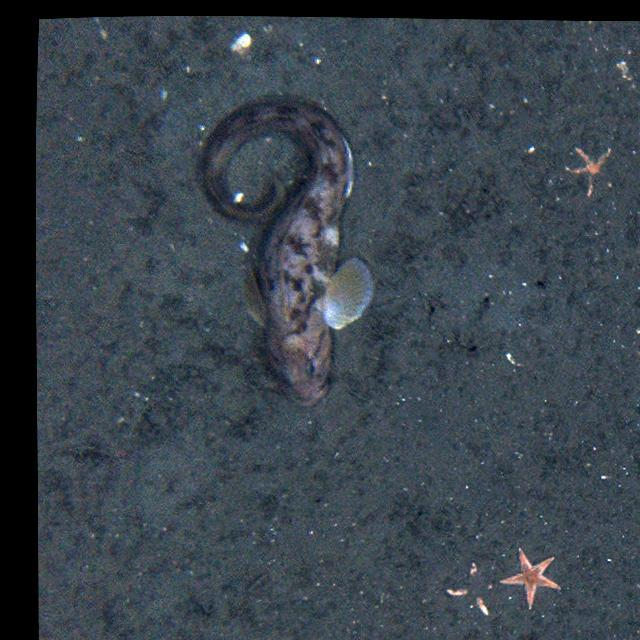roundfish: (202, 93, 369, 408)
